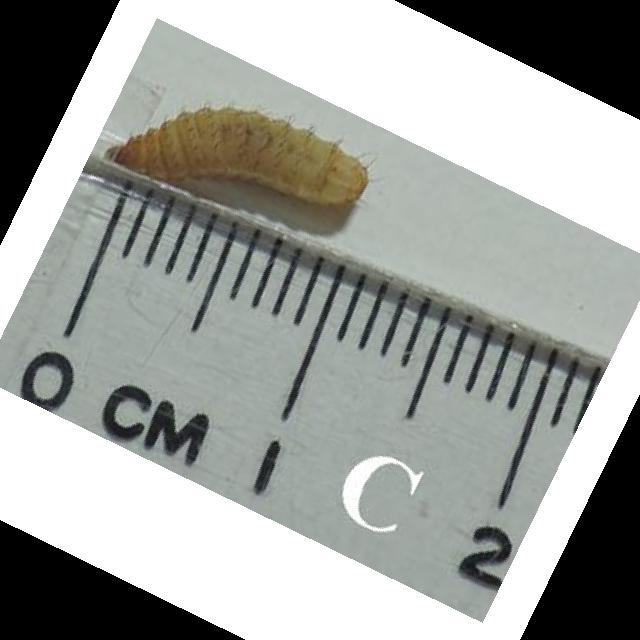Maggot: (109, 106, 373, 210)
